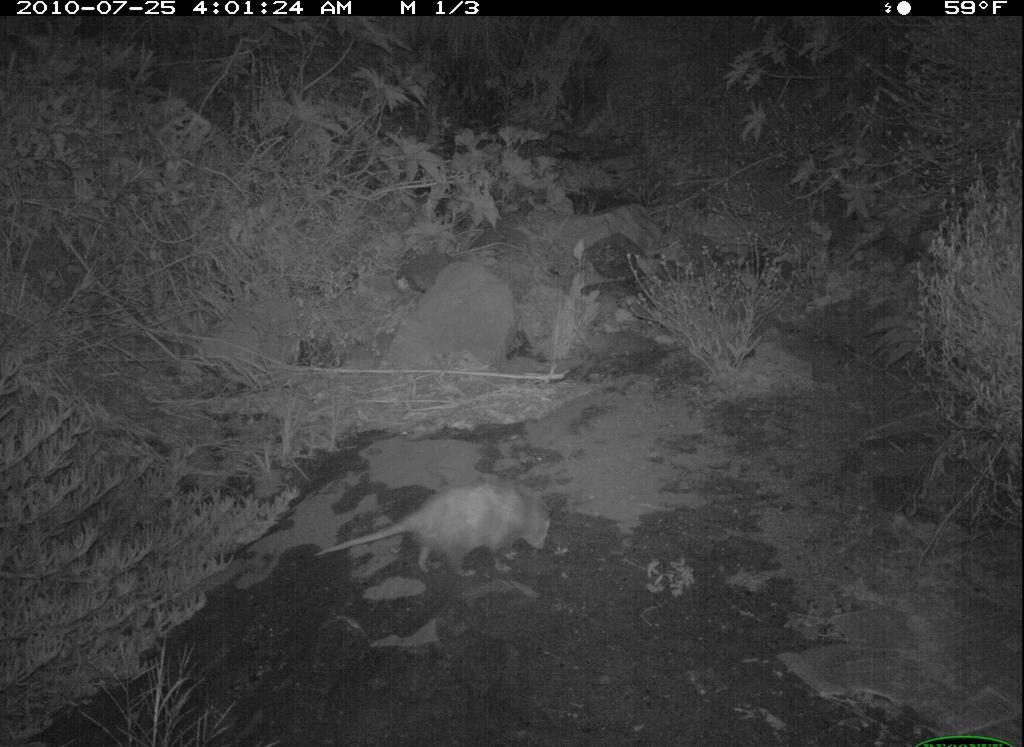opossum: (299, 470, 566, 594)
